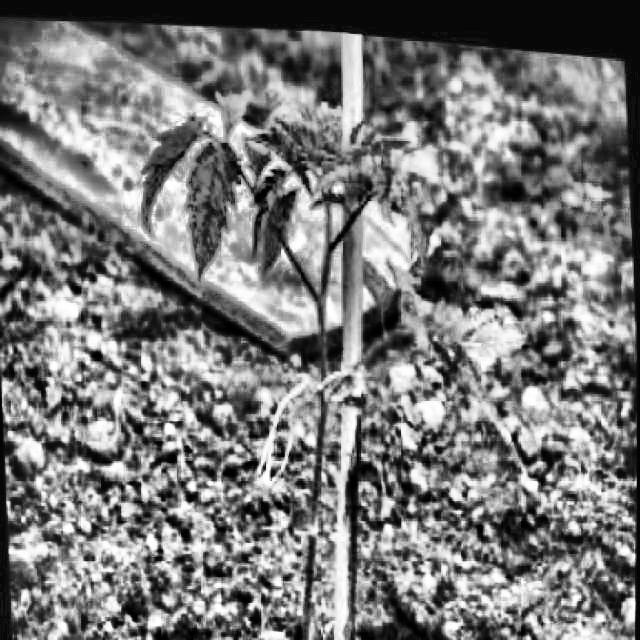plants: (120, 56, 549, 638)
